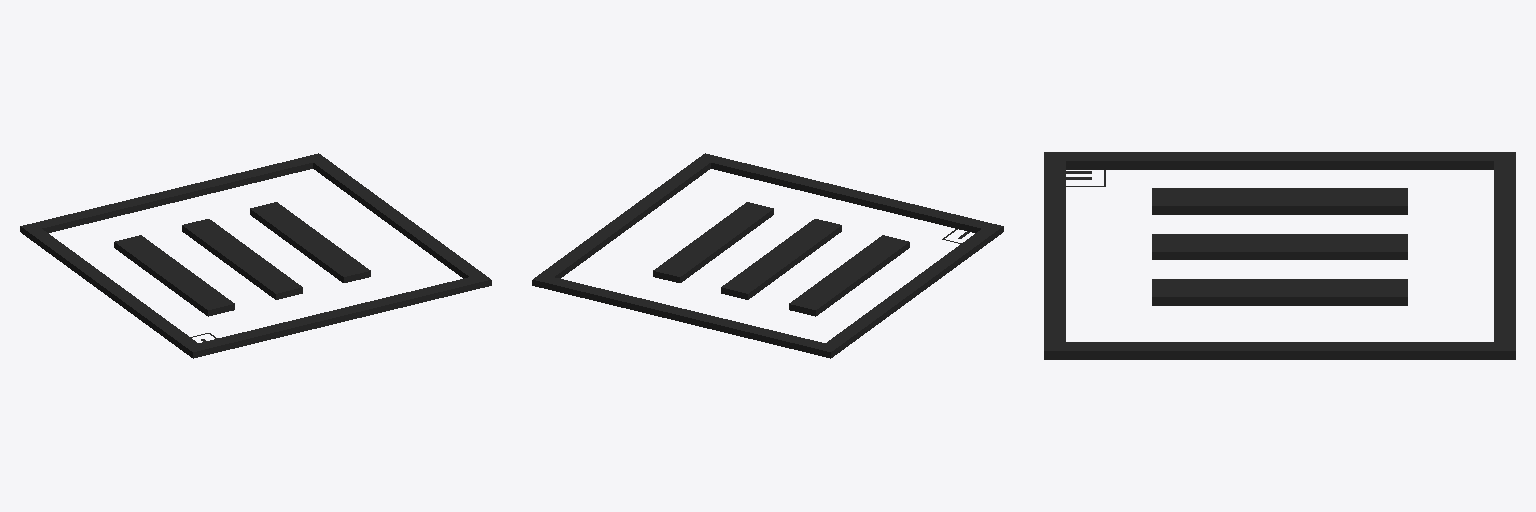
The robot description file, URDF, robot "Room45":
<robot name="Room45">
    <link name="_name">
        <visual> 
            <origin rpy="0.0 0.0 0.0" xyz="-0.4803363525861518 -0.4987948628880903 -0.010000000000000002" />
                <geometry>
                    <mesh filename="Room45/Room45.obj" scale="1 1 0.1" />
                </geometry>

            <material name="black">
                <color rgba="0.2 0.2 0.2 0.95" />
            </material>
        </visual>

       <collision concave="yes" name="collision_0">
            <origin rpy="0.0 0.0 0.0" xyz="-0.4803363525861518 -0.4987948628880903 -0.010000000000000002" />
            <geometry>
                <mesh filename="Room45/Room45_vhacd.obj" scale="1 1 0.1" />
            </geometry>
        </collision>

        <inertial> 
            <mass value="0" />
            <inertia ixx="0" ixy="0" ixz="0" iyy="0" iyz="0" izz="0" />
        </inertial> 
    </link>
</robot>

--- Facts derived from the render (not from the file) ---
Views: 3 orthographic renders of the robot side by side, from view 1: azimuth 30°, elevation 25°; view 2: azimuth 150°, elevation 25°; view 3: azimuth 270°, elevation 25°.
Robot: Room45 — 1 links, 0 joints (none); root link _name; default pose: every joint at zero.
Visible links, largest first — view 1: _name; view 2: _name; view 3: _name.
Link boxes in pixels (x1,y1,x2,y2): _name: [20, 153, 491, 358]; _name: [532, 153, 1003, 358]; _name: [1044, 152, 1515, 359].
Bounding box of the posed robot: 1 × 1 × 0.02 m (x, y, z).
Meshes: 1 distinct files referenced, 1 mesh visuals loaded (1 OBJ).